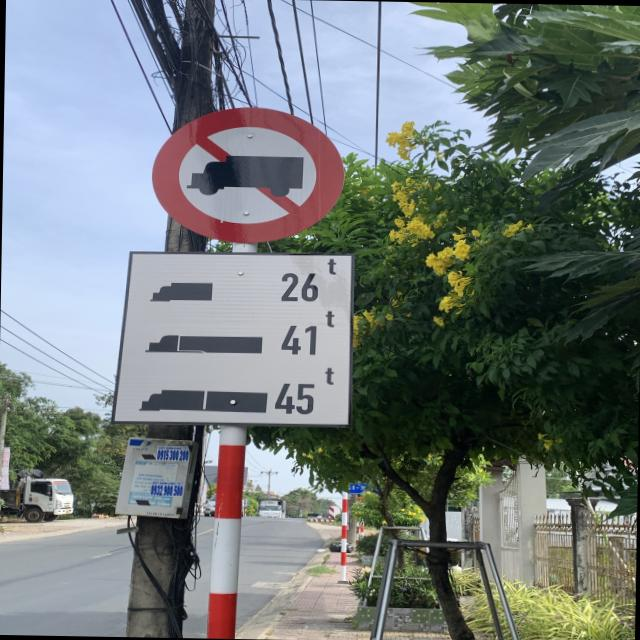Cam_Xe_Tai: (146, 103, 344, 244)
